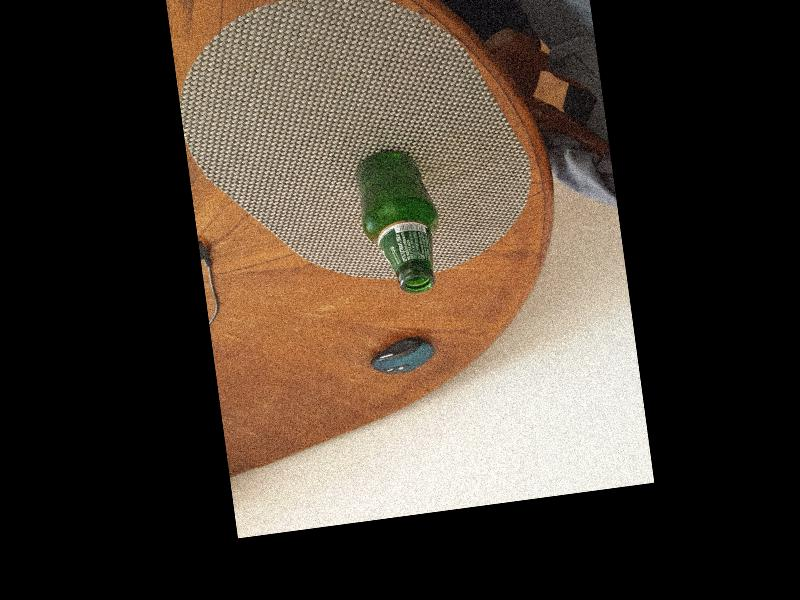Beer: (349, 145, 450, 300)
